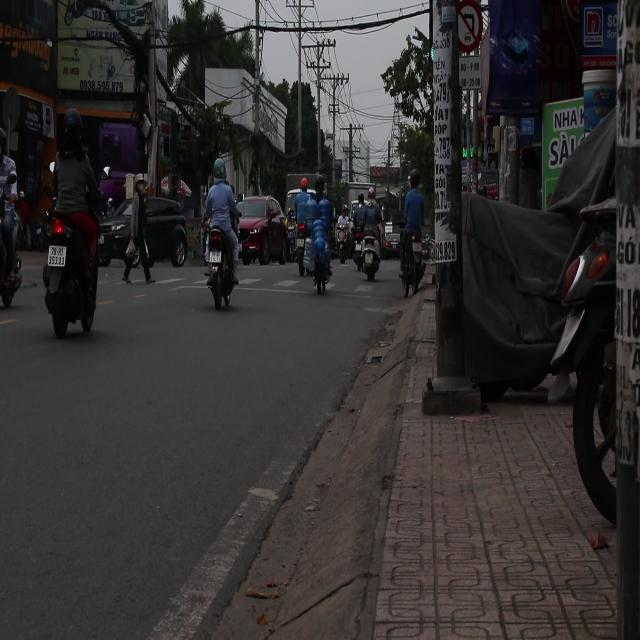car: (96, 190, 193, 274), (237, 197, 289, 264), (385, 230, 402, 258)
motorbike: (40, 203, 99, 340), (202, 222, 241, 310), (0, 196, 24, 309), (352, 222, 384, 281), (307, 226, 334, 295)
